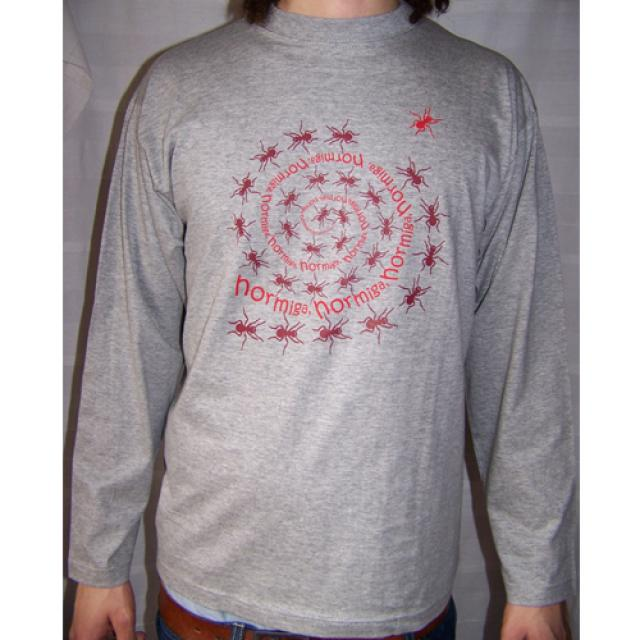T-shirt: (69, 7, 576, 640)
